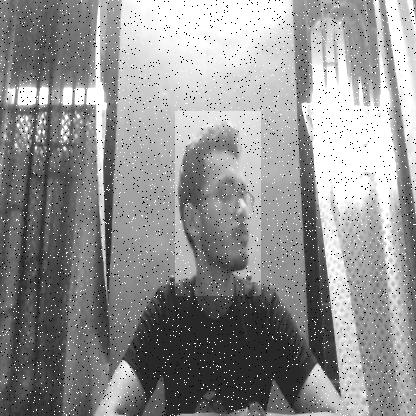Distracted: (176, 111, 262, 296)
